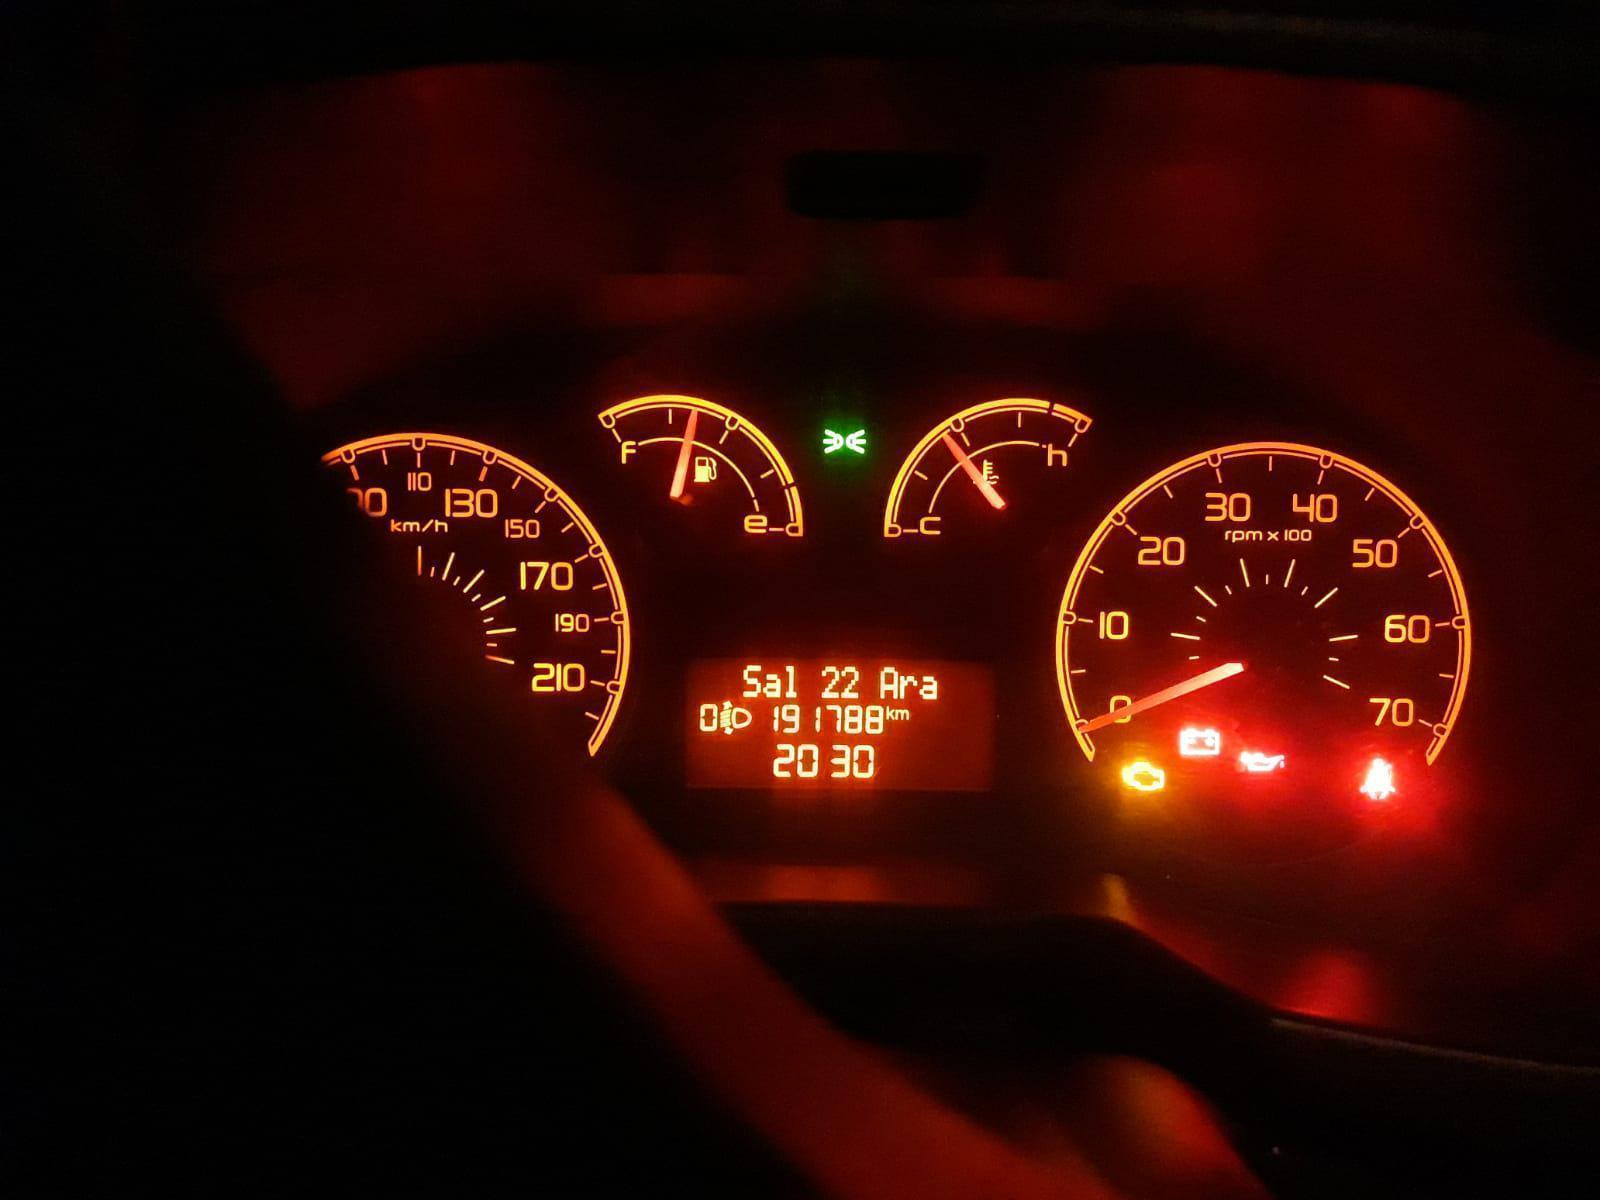0: (850, 744, 876, 778), (796, 742, 818, 778), (698, 701, 717, 734)
1: (813, 703, 821, 739), (771, 702, 779, 732)
2: (770, 740, 795, 778), (839, 666, 860, 700), (820, 666, 838, 700)
3: (830, 741, 850, 778)
7: (825, 702, 843, 734)
8: (843, 702, 862, 734), (864, 702, 882, 735)
9: (780, 701, 803, 736)
X: (741, 659, 760, 700), (878, 666, 898, 701), (784, 663, 799, 700), (920, 673, 939, 701), (900, 672, 918, 700), (763, 672, 782, 697), (894, 707, 910, 721), (884, 703, 894, 720)
odometer: (668, 645, 1010, 805)
